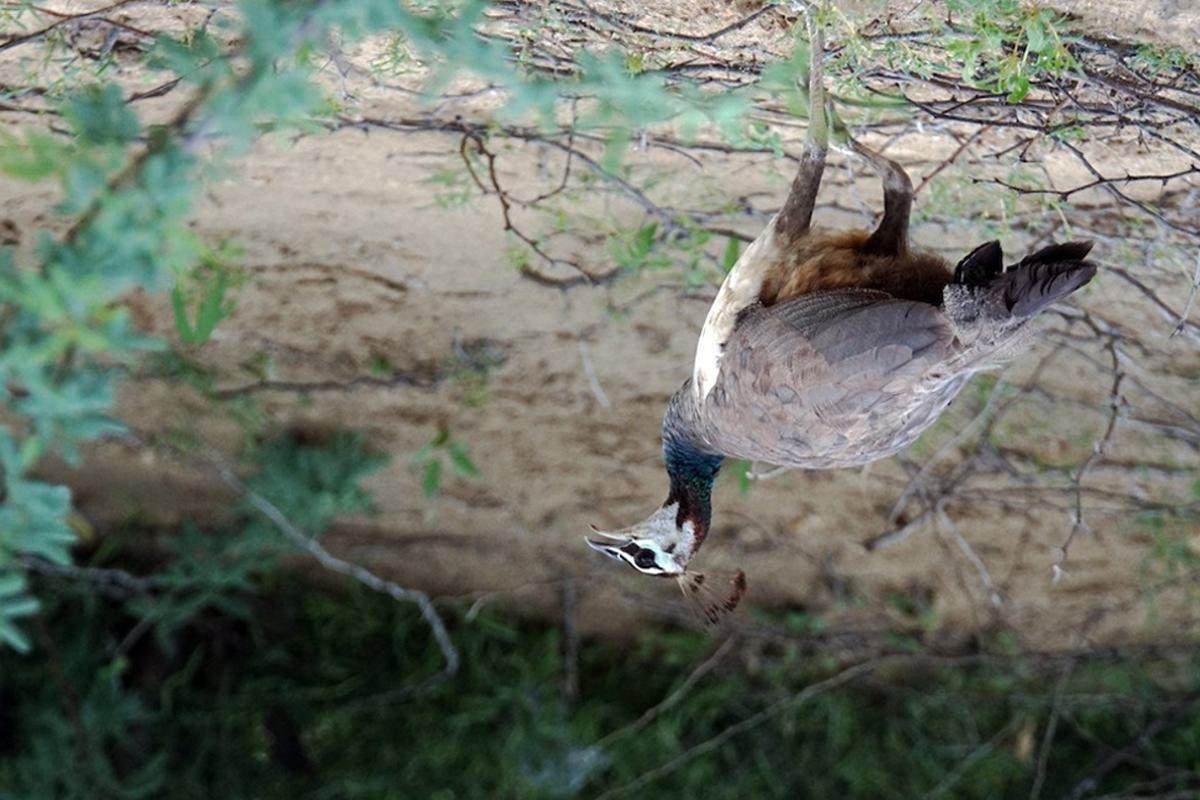peacock: (571, 81, 1068, 618)
